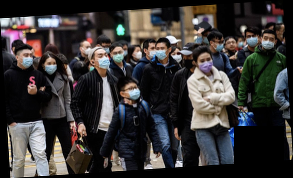with_mask: (198, 55, 214, 74), (94, 51, 111, 68), (125, 83, 141, 101), (261, 34, 276, 50), (19, 52, 34, 67), (111, 48, 124, 64), (155, 44, 168, 60), (181, 54, 194, 70), (245, 32, 259, 46), (45, 59, 58, 74), (171, 50, 182, 63), (214, 38, 225, 51), (148, 43, 157, 58), (101, 43, 112, 54), (82, 44, 93, 55), (134, 48, 143, 59)
without_mask: (225, 40, 238, 50)
